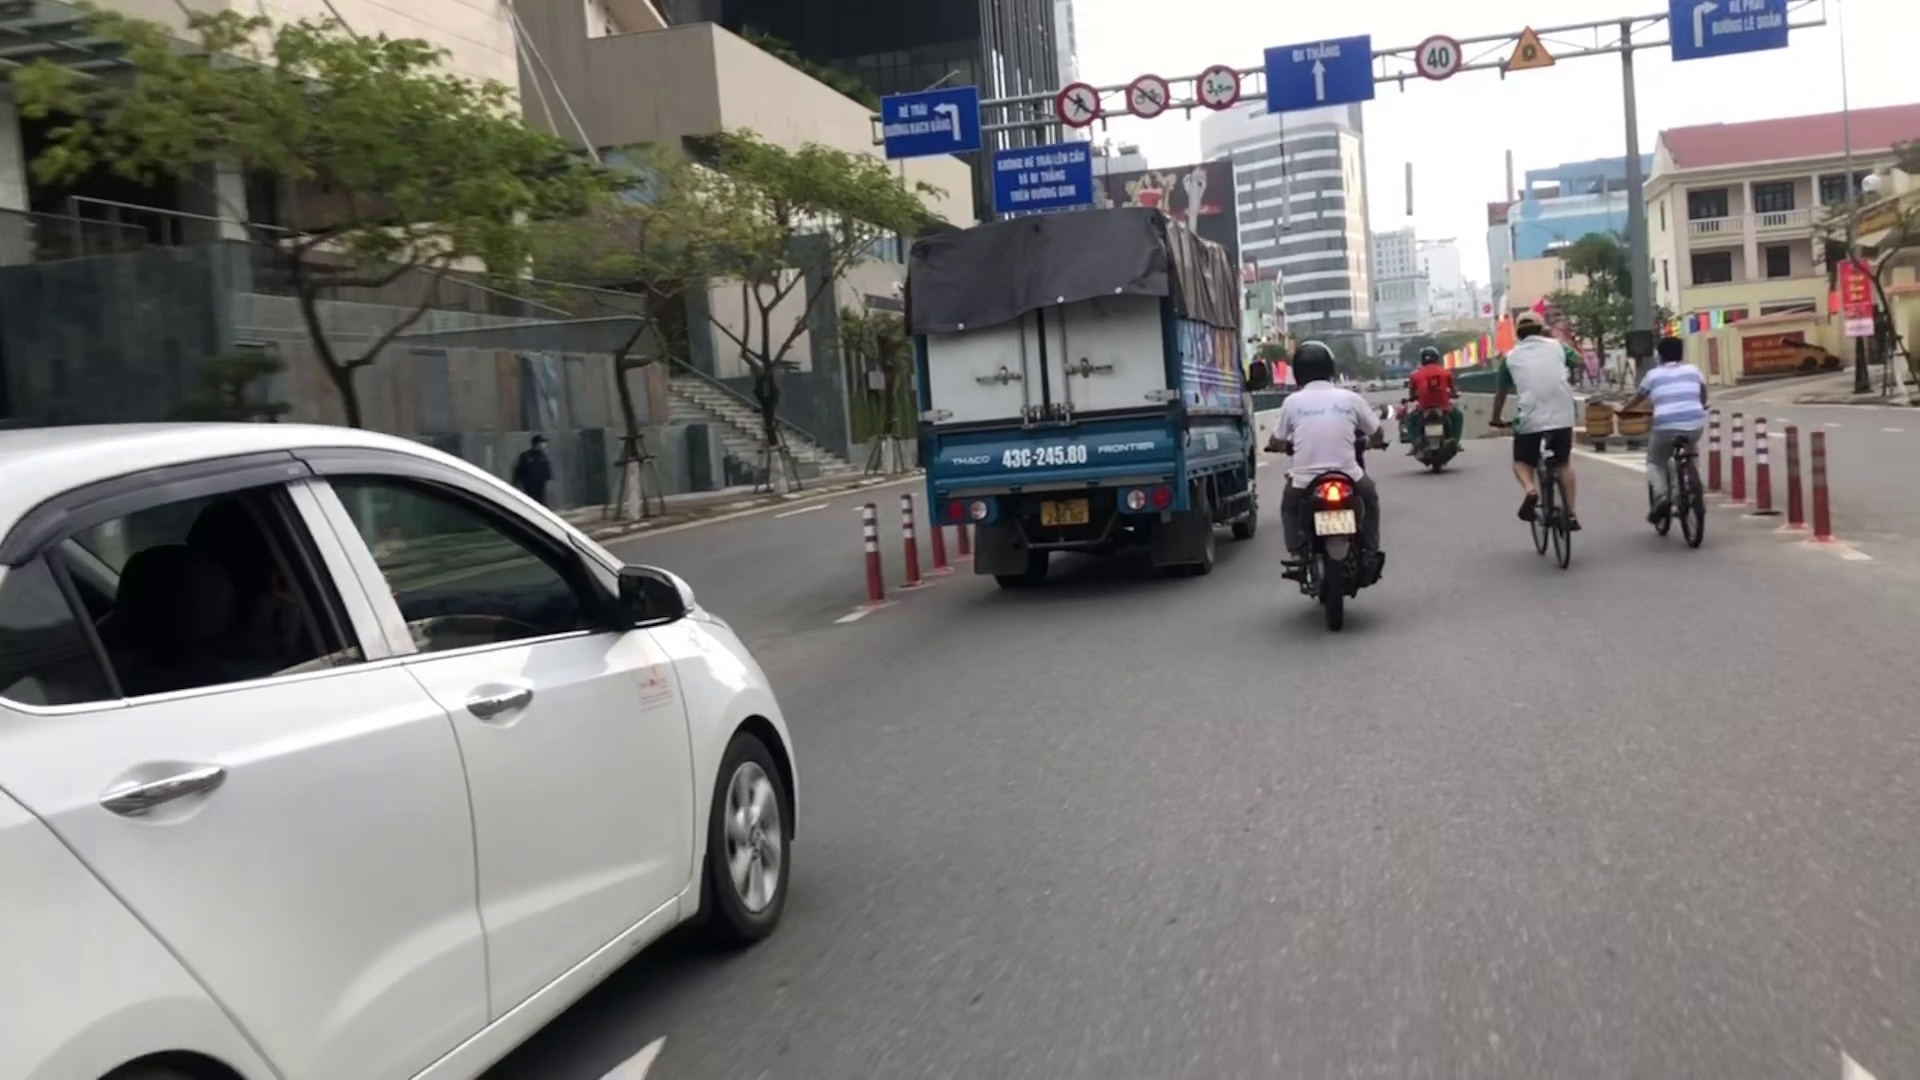Bien khac: (1418, 37, 1458, 84)
